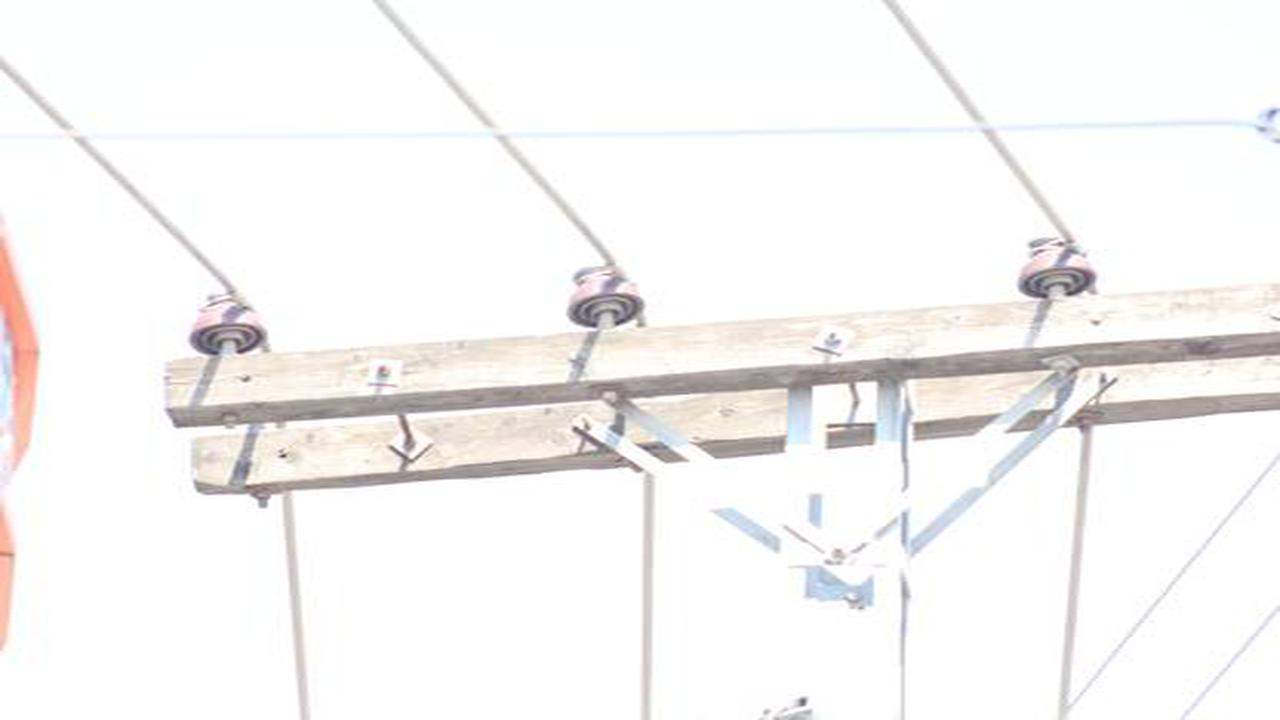insulator_pin: (188, 285, 268, 354), (1014, 234, 1097, 299), (561, 262, 640, 328)
